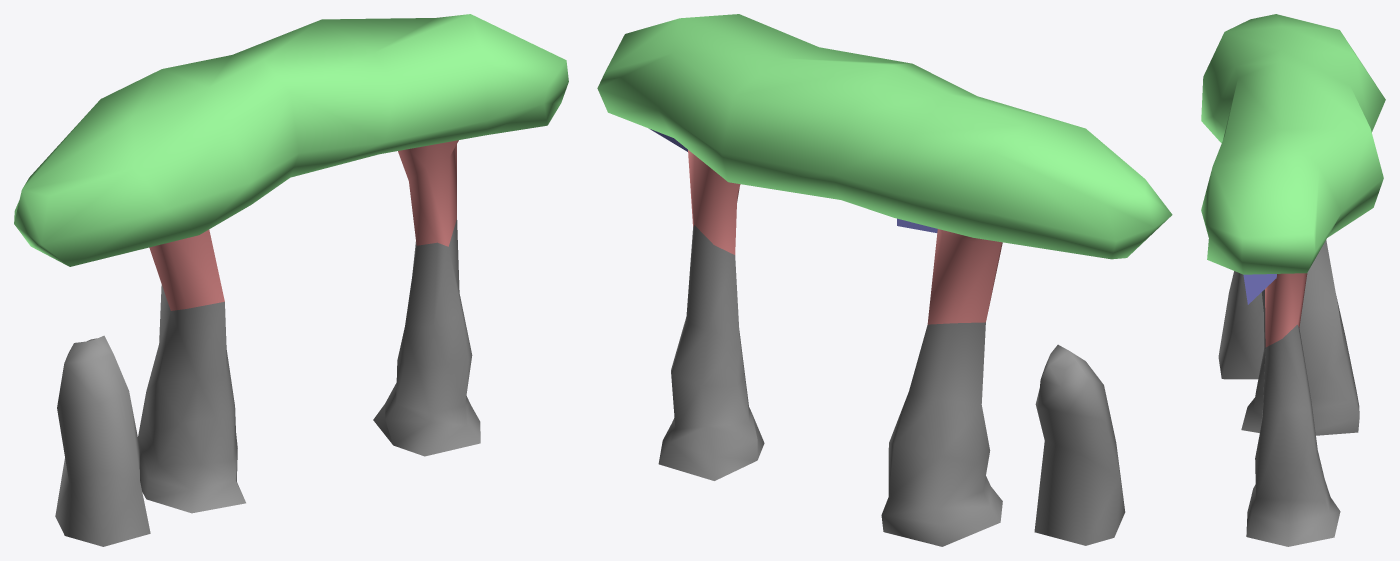
Rendered from StoneH_01.gltf.
3 renders of one model, left to right at view 1: azimuth 30°, elevation 25°; view 2: azimuth 150°, elevation 25°; view 3: azimuth 270°, elevation 25°, orthographic. The views are drawn at different scales.
Visible parts, largest first — view 1: StoneH_01; view 2: StoneH_01; view 3: StoneH_01.
Part boxes in pixels (x1=…): StoneH_01: x1=14, y1=14, x2=568, y2=546; StoneH_01: x1=597, y1=14, x2=1172, y2=546; StoneH_01: x1=1201, y1=14, x2=1385, y2=546.
Size of the model in its own units: 6.31 by 4.7 by 2.04.
